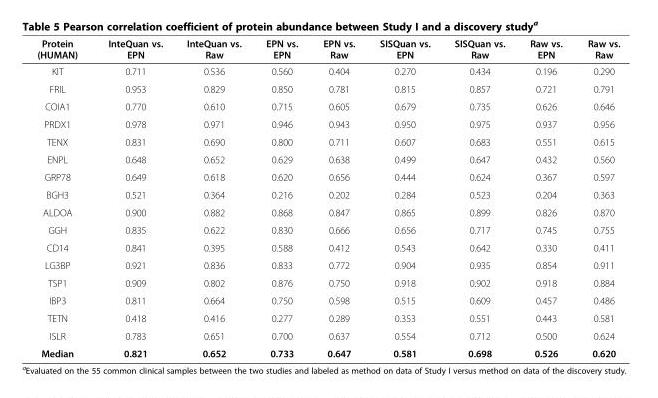table: (36, 37, 619, 358)
table column: (92, 37, 174, 358), (174, 37, 253, 358), (366, 37, 441, 358), (441, 37, 516, 358), (516, 37, 574, 358), (309, 37, 366, 358), (36, 37, 92, 358), (253, 37, 309, 358), (574, 37, 619, 358)
table column header: (36, 37, 619, 62)
table row: (36, 37, 619, 62), (36, 79, 619, 97), (36, 97, 619, 115), (36, 132, 619, 150), (36, 167, 619, 185), (36, 185, 619, 203), (36, 220, 619, 238), (36, 238, 619, 256), (36, 273, 619, 291), (36, 291, 619, 309), (36, 326, 619, 344), (36, 62, 619, 79), (36, 115, 619, 132), (36, 150, 619, 167), (36, 203, 619, 220), (36, 256, 619, 273), (36, 309, 619, 326), (36, 344, 619, 358)
